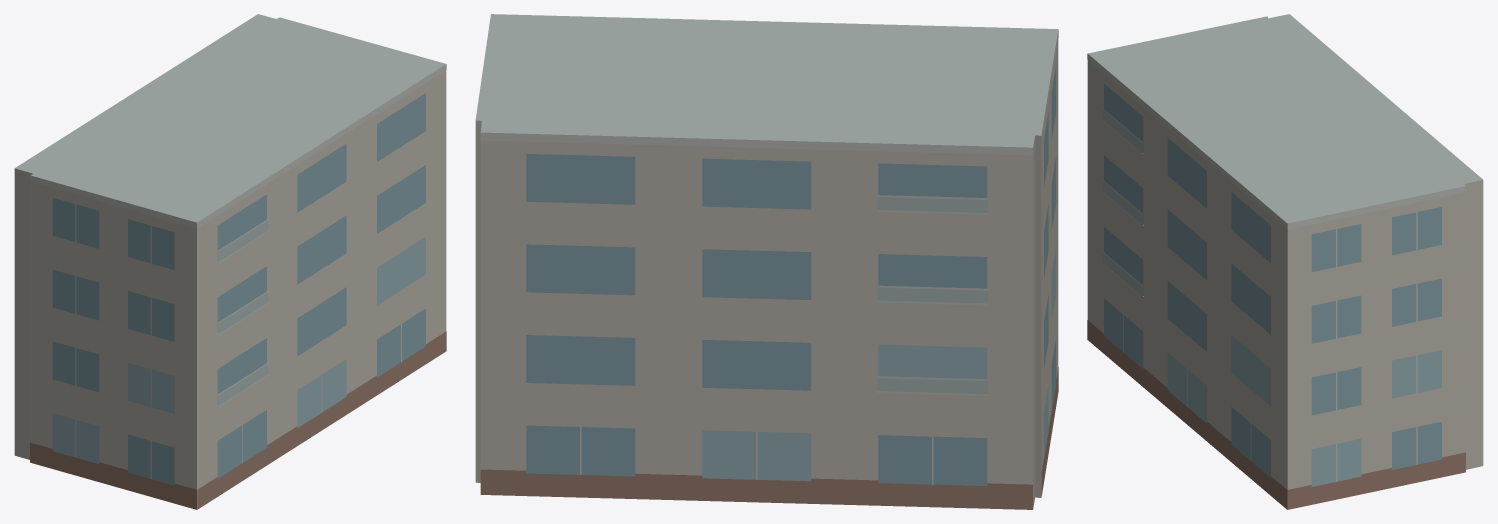
Rendered from survey-upis-32891438.glb.
3 renders of one model, left to right at view 1: azimuth 30°, elevation 25°; view 2: azimuth 150°, elevation 25°; view 3: azimuth 270°, elevation 25°, orthographic. The views are drawn at different scales.
Parts seen in each view (by area): view 1: survey-upis-32891438.tmp; view 2: survey-upis-32891438.tmp; view 3: survey-upis-32891438.tmp.
Part boxes in pixels (x1,y1,x2,y2): survey-upis-32891438.tmp: (14, 14, 446, 509); survey-upis-32891438.tmp: (475, 14, 1058, 509); survey-upis-32891438.tmp: (1087, 14, 1483, 509).
Bounding box in the file's own units: 17.9 × 11.4 × 14.29.
